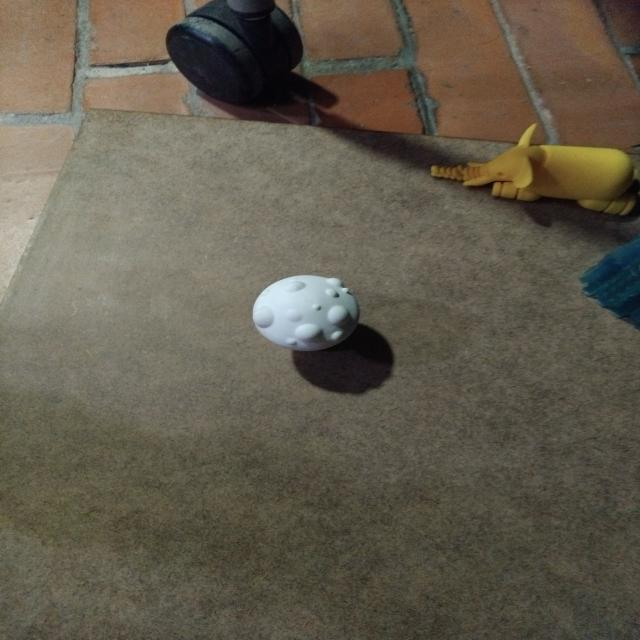Hongo: (233, 263, 374, 358)
